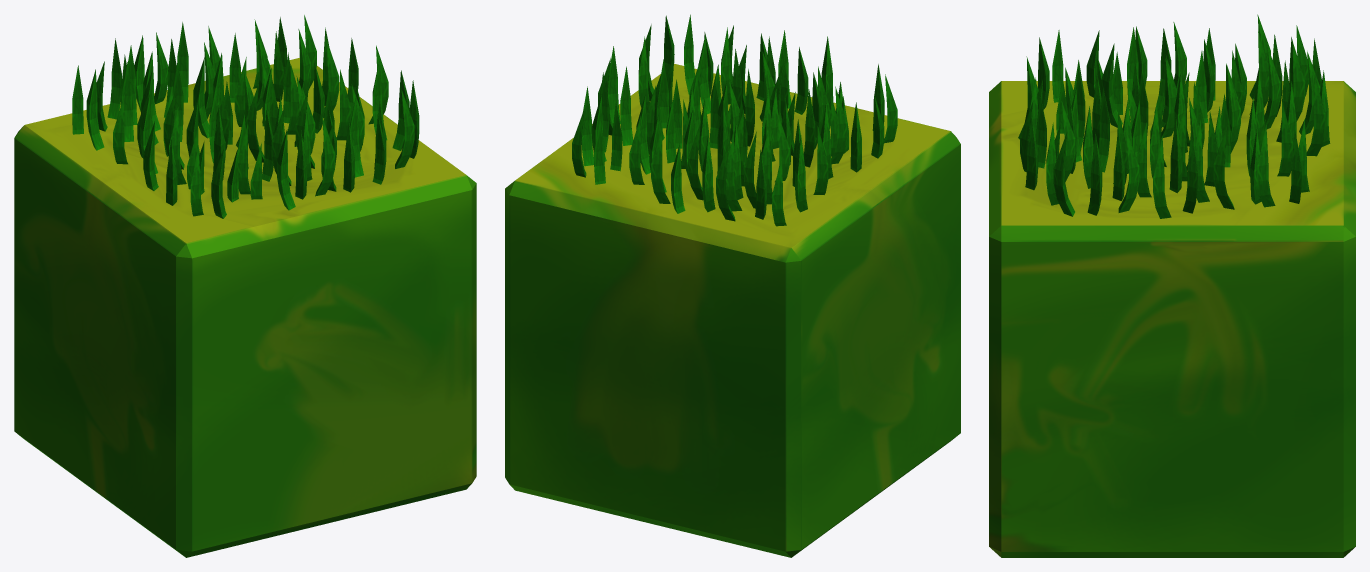
The model's file is GrassBlockWithGrass.fbx.
3 renders of one model, left to right at view 1: azimuth 30°, elevation 25°; view 2: azimuth 150°, elevation 25°; view 3: azimuth 270°, elevation 25°, orthographic. The views are drawn at different scales.
Visible parts, largest first — view 1: GrassBlockWithGrass; view 2: GrassBlockWithGrass; view 3: GrassBlockWithGrass.
Boxes of the visible parts, x1,y1,x2,y2 form: GrassBlockWithGrass: (14,15,476,557); GrassBlockWithGrass: (505,14,960,557); GrassBlockWithGrass: (989,14,1355,557).
Size of the model in its own units: 200 by 253 by 200.
